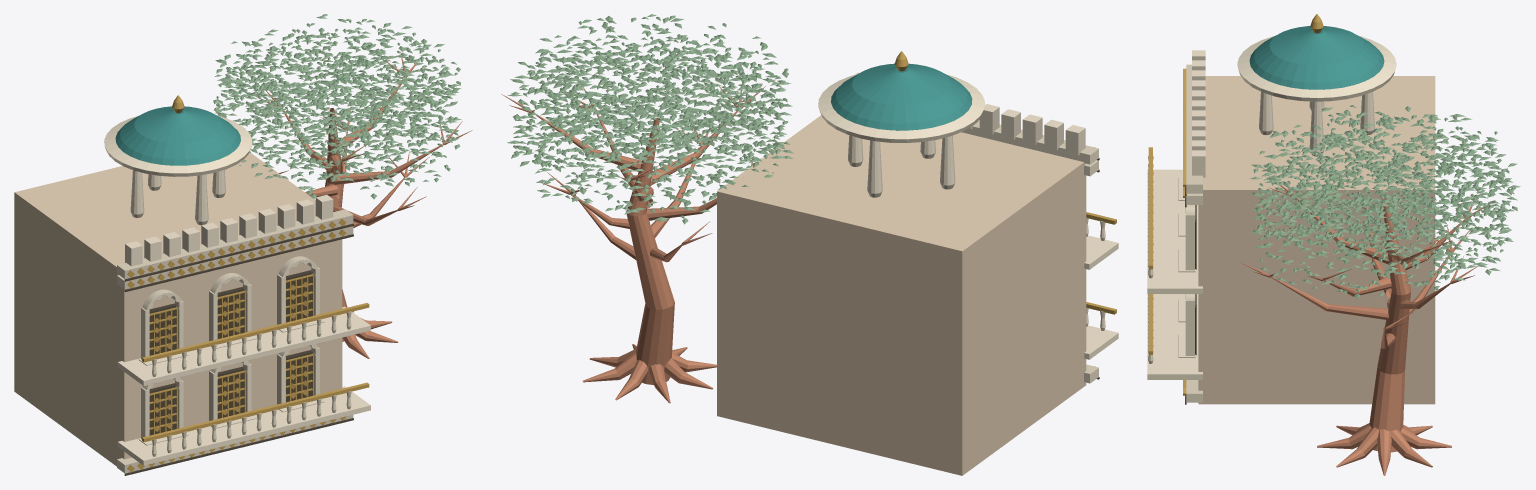
Rendered from shambhala-frontage.glb.
3 views of the same model, side by side, from view 1: azimuth 30°, elevation 25°; view 2: azimuth 150°, elevation 25°; view 3: azimuth 270°, elevation 25° (orthographic). The views are drawn at different scales.
Visible parts, largest first — view 1: Preview_shambhala-frontage; view 2: Preview_shambhala-frontage; view 3: Preview_shambhala-frontage.
Boxes of the visible parts, x1,y1,x2,y2 form: Preview_shambhala-frontage: (14, 14, 472, 475); Preview_shambhala-frontage: (501, 14, 1118, 475); Preview_shambhala-frontage: (1147, 14, 1520, 475).
Size of the model in its own units: 15.24 by 10.98 by 11.09.
